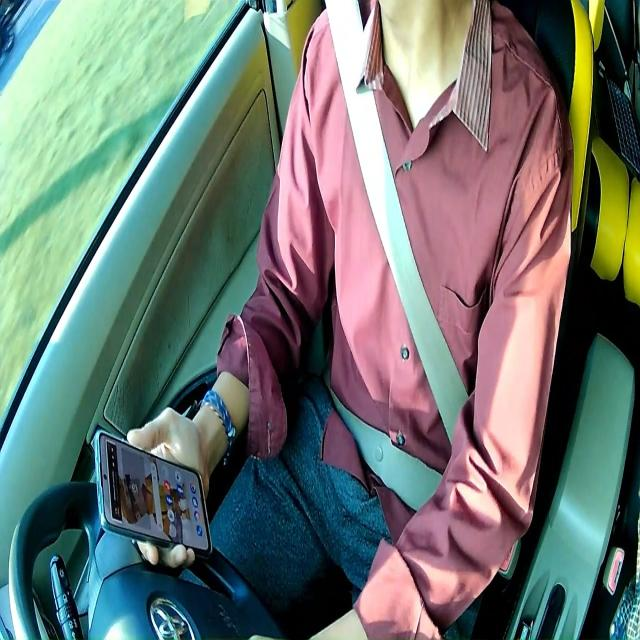phone: (94, 431, 211, 556)
